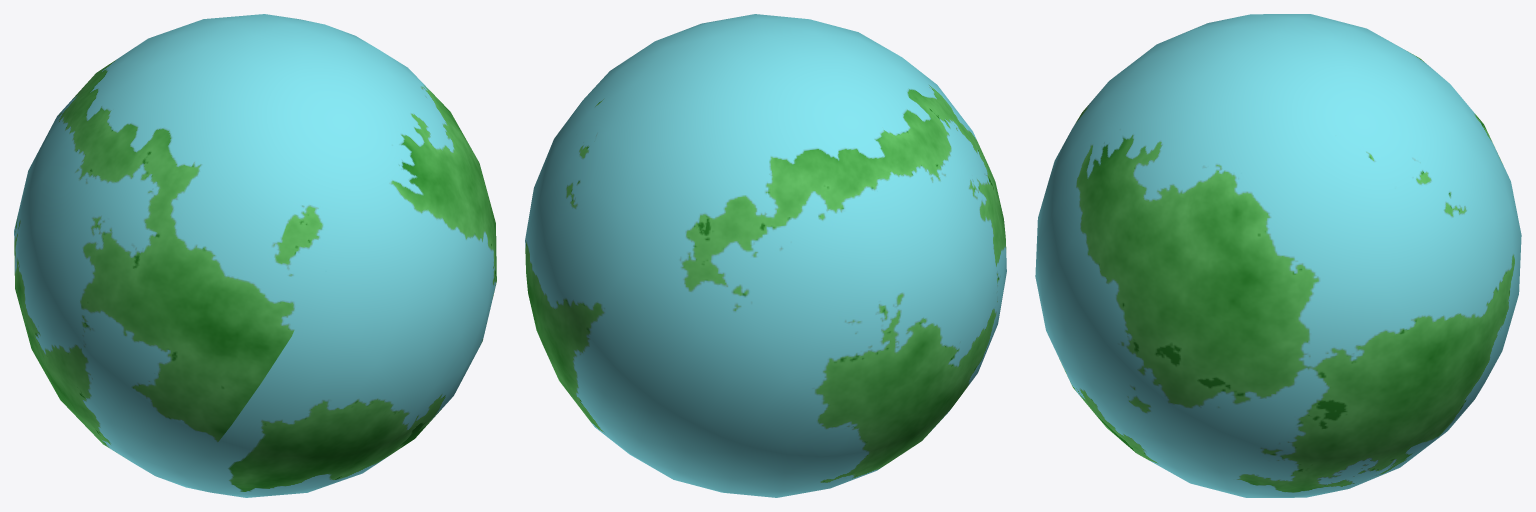
File: Planet Holo.fbx
The picture shows the model from 3 angles, left to right: view 1: azimuth 30°, elevation 25°; view 2: azimuth 150°, elevation 25°; view 3: azimuth 270°, elevation 25°; orthographic projection.
Visible parts, largest first — view 1: s3d-planet2-proj_252.Shape; view 2: s3d-planet2-proj_252.Shape; view 3: s3d-planet2-proj_252.Shape.
Part boxes in pixels (bbox=[...]): s3d-planet2-proj_252.Shape: bbox=[14, 14, 496, 497]; s3d-planet2-proj_252.Shape: bbox=[525, 14, 1006, 497]; s3d-planet2-proj_252.Shape: bbox=[1035, 14, 1521, 497].
Size of the model in its own units: 72.72 by 73.17 by 72.84.
1 material, 1 textured.
